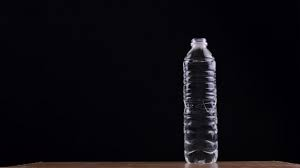Botella: (184, 38, 217, 162)
